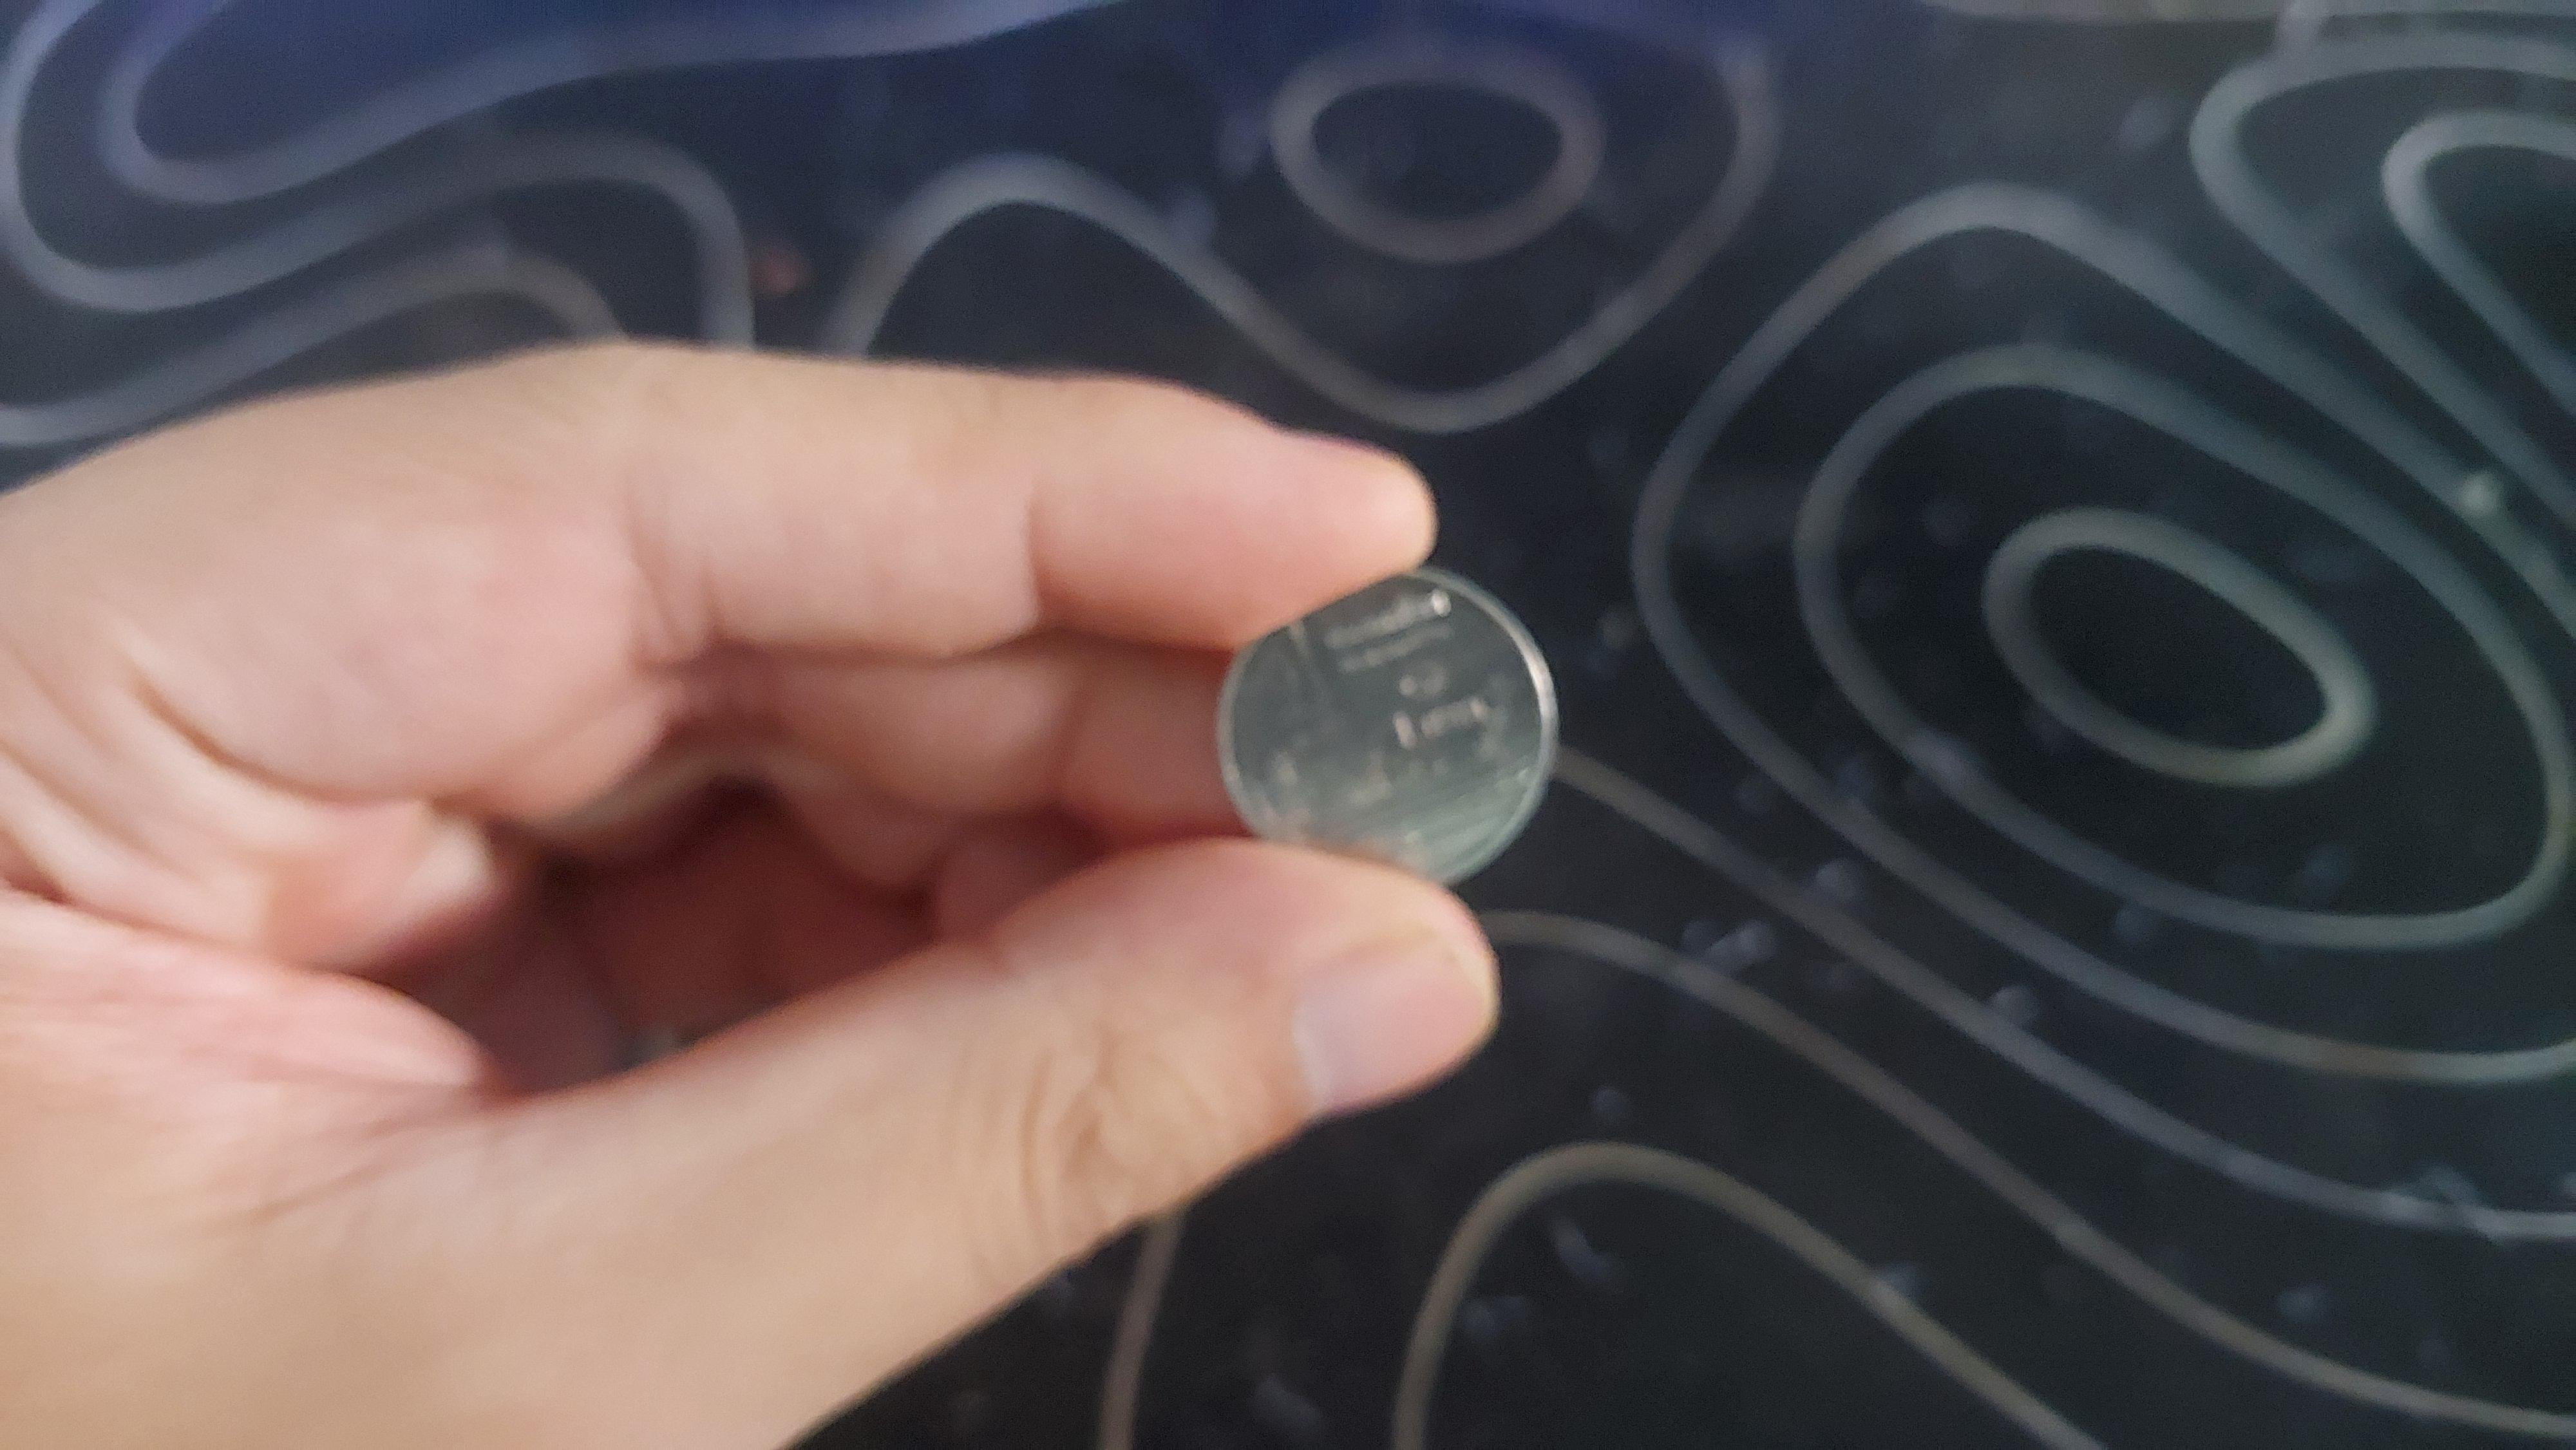1baht: (1207, 569, 1610, 900)
